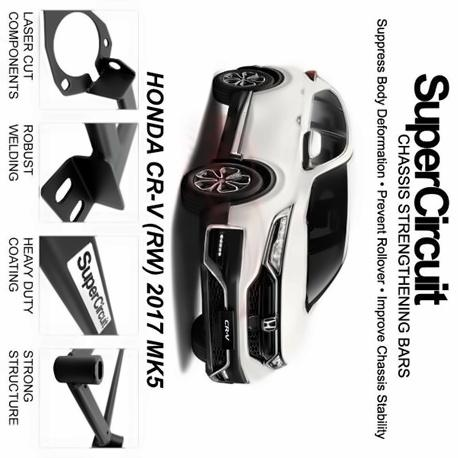Car hood: (277, 172, 318, 368)
Driver-s door - -F-R-: (212, 111, 355, 173)
Fender - -F-R-: (201, 148, 316, 208)
Front bumper: (193, 199, 275, 390)
Headlight - -L-: (264, 353, 288, 376)
Headlight - -R-: (258, 202, 295, 284)
Passenger-s door - -R-R-: (223, 73, 354, 134)
Rear light - -R-: (302, 67, 319, 82)
Side bumper - -R-: (211, 88, 254, 165)
Side mirror - -R-: (300, 124, 324, 172)
